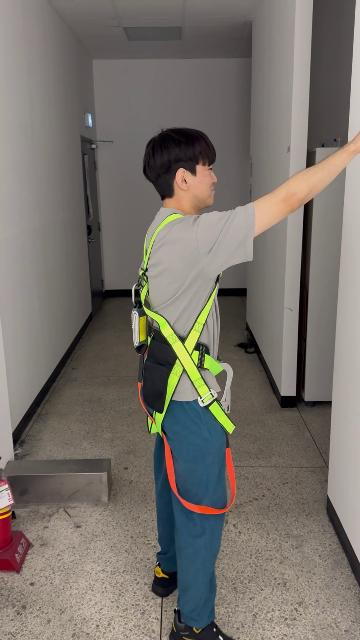helmet_not_worn: (141, 127, 221, 208)
shoe_worn: (170, 607, 235, 639), (151, 561, 178, 597)
vest_worn: (131, 223, 239, 506)
